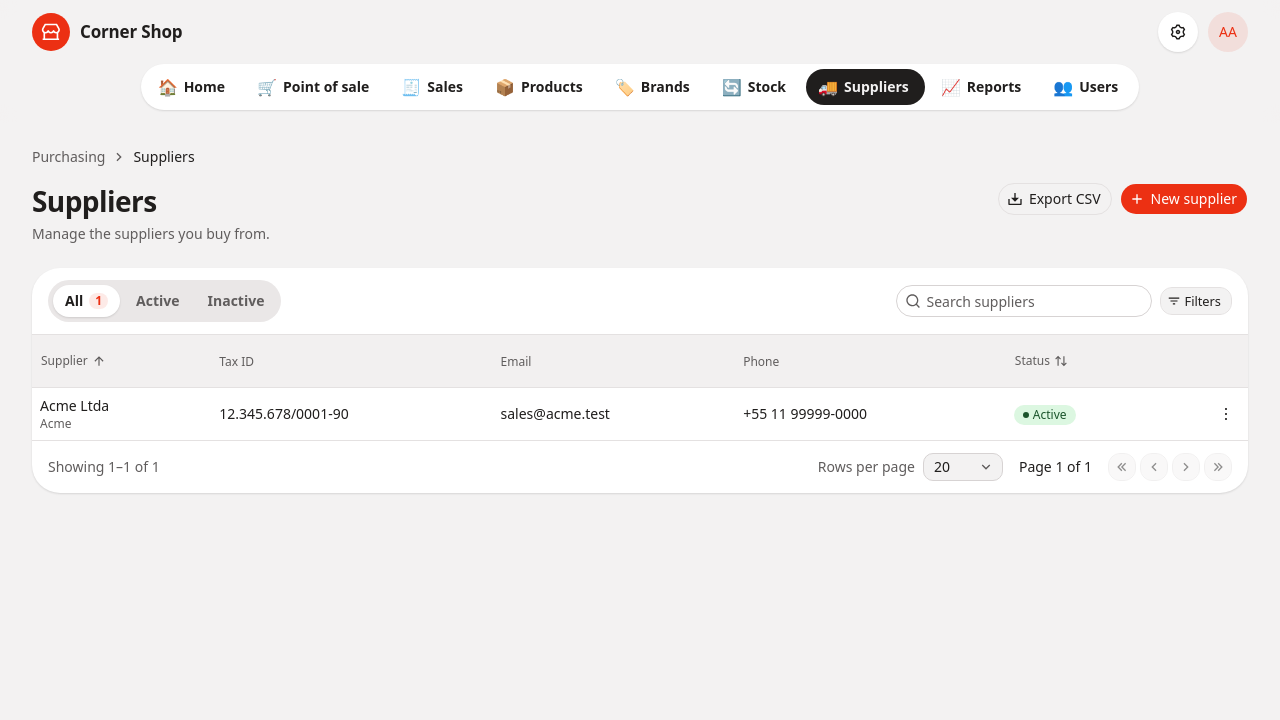
Scenario: SupplierListPage › deactivates a supplier after confirmation
Expected: the link "Acme Ltda" is shown, [40,396,109,415]
Click the button named "Actions". click: (1226, 414)
box: [1212,400,1240,428]
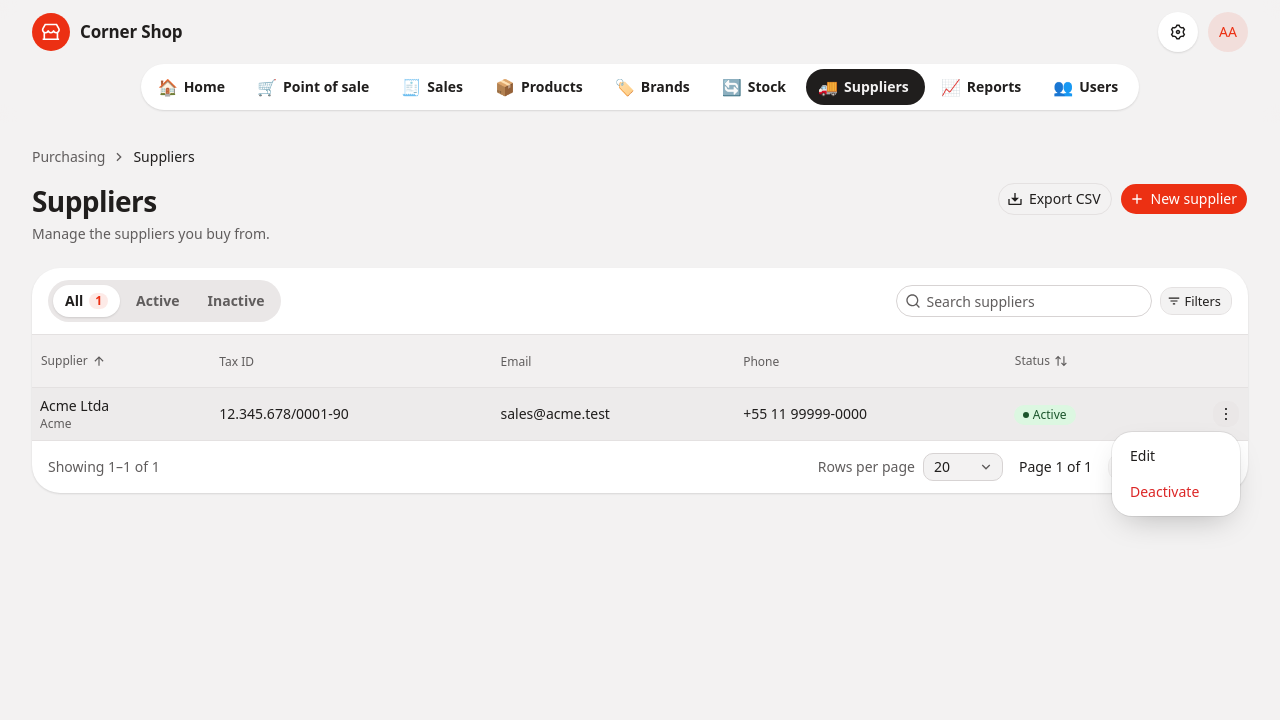
Click the menu item "Deactivate". click: (1165, 492)
box: [1130,482,1199,501]
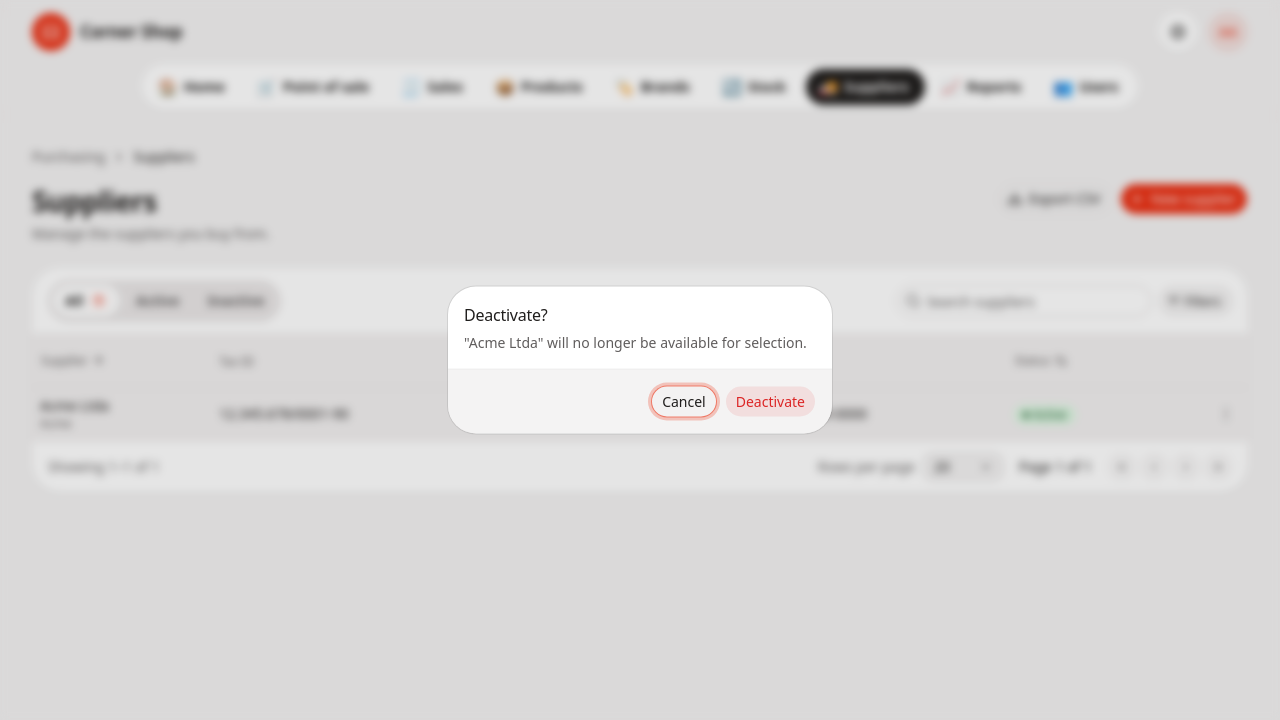
Click the button "Deactivate". click: (770, 402)
box: [725,386,816,418]
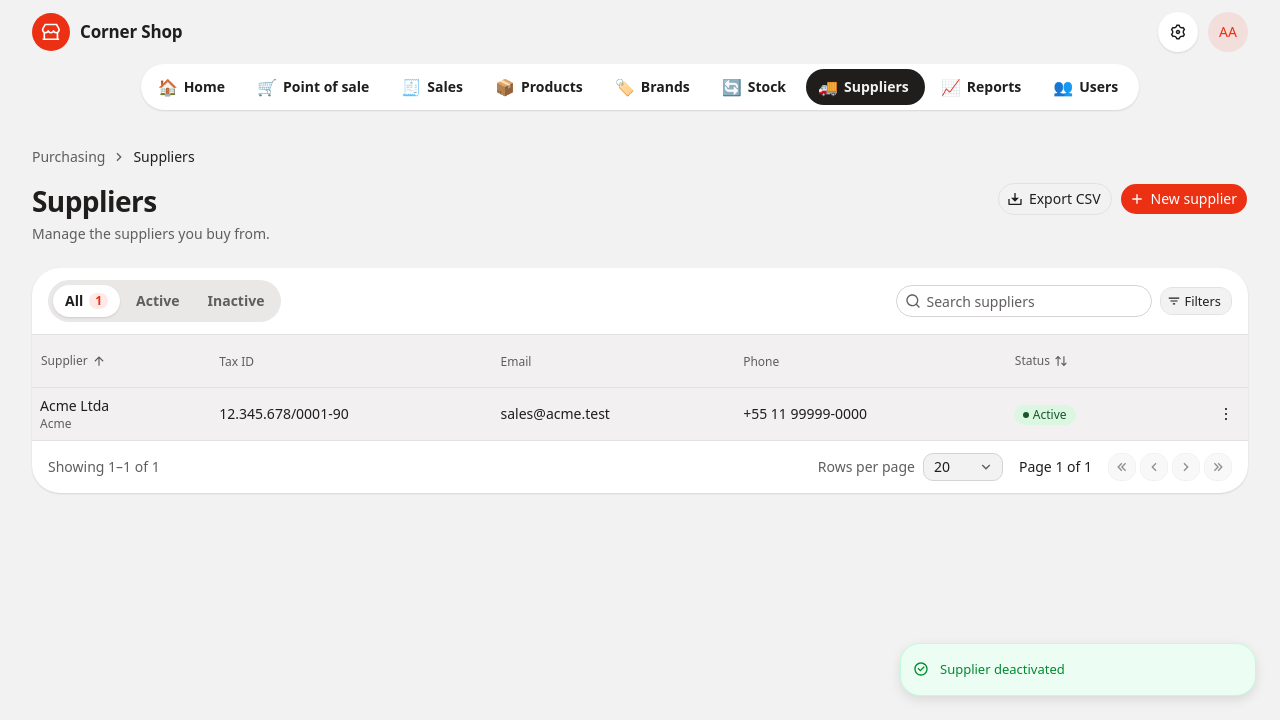
Expected: the text "Supplier deactivated" is shown, [940,660,1065,679]
Expected: the dialog is gone
